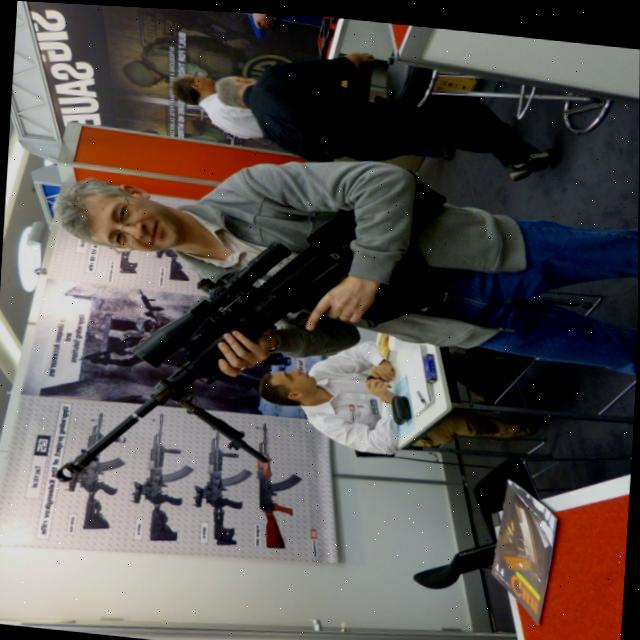firearm: (54, 211, 343, 508), (129, 411, 193, 543), (64, 410, 129, 529), (190, 429, 253, 546), (252, 419, 309, 548)
pistol: (244, 10, 265, 35)
